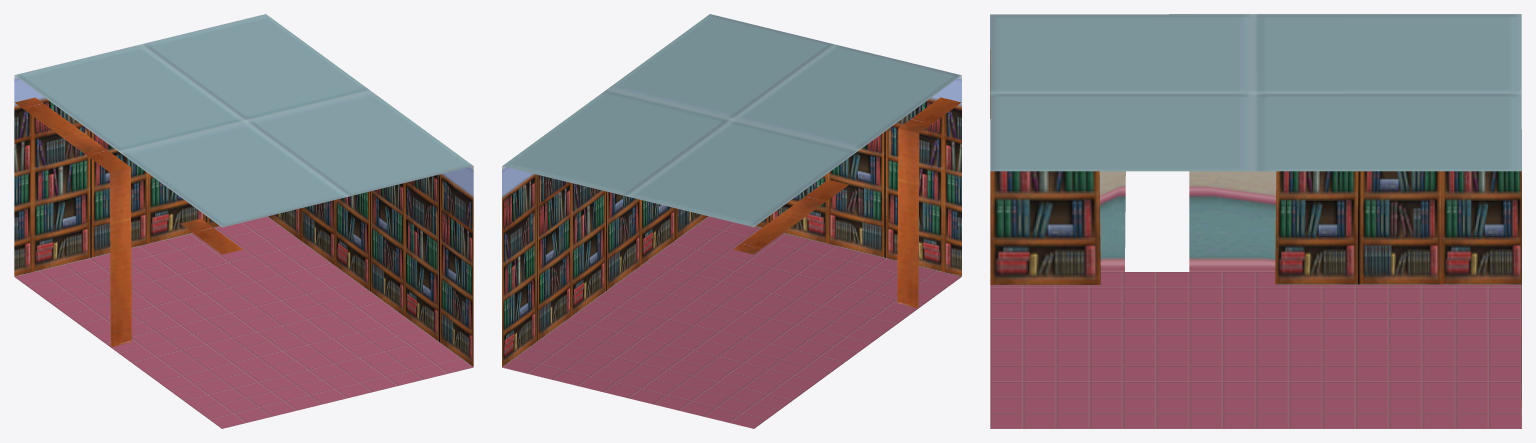
Rendered from room01.glb.
3 renders of one model, left to right at view 1: azimuth 30°, elevation 25°; view 2: azimuth 150°, elevation 25°; view 3: azimuth 270°, elevation 25°, orthographic. The views are drawn at different scales.
Parts seen in each view (by area): view 1: room01; view 2: room01; view 3: room01.
Boxes of the visible parts, x1=… form: room01: x1=14, y1=14, x2=473, y2=428; room01: x1=502, y1=14, x2=961, y2=428; room01: x1=990, y1=14, x2=1521, y2=428.
Bounding box in the file's own units: 1030 × 788 × 1473.
Materials: 5 (5 with a texture image).
